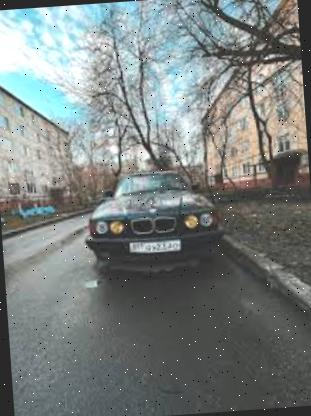car: (72, 162, 228, 282)
